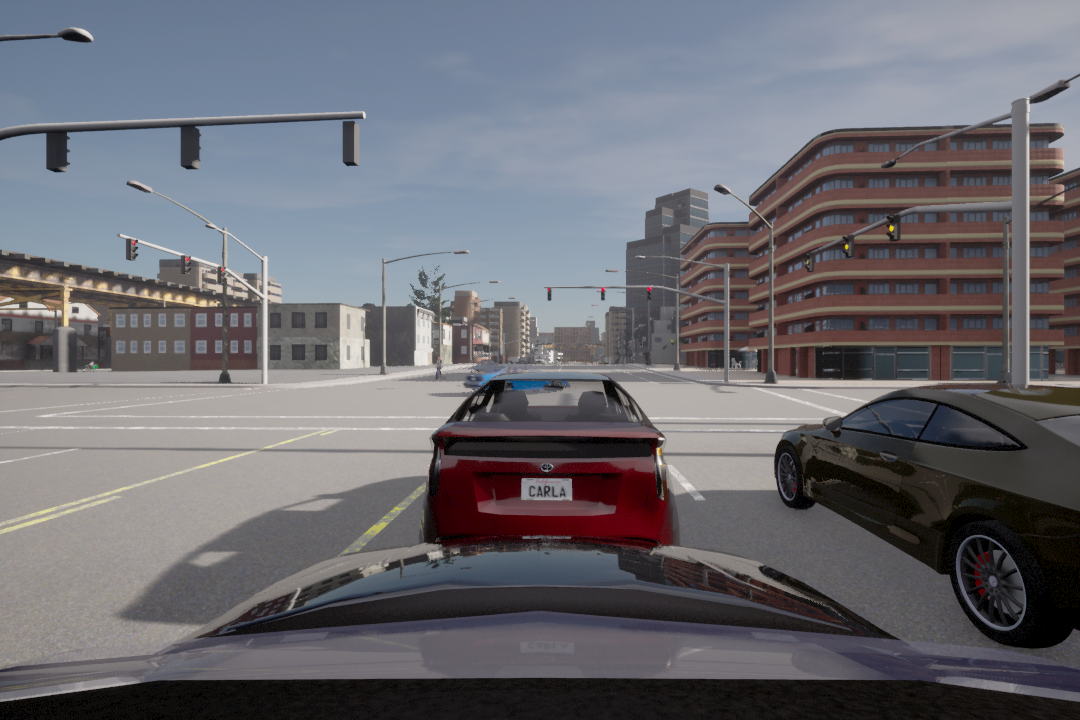TrafficLight: (884, 212, 905, 247), (842, 233, 859, 261), (125, 237, 139, 264), (801, 251, 813, 277), (181, 251, 192, 274), (598, 286, 609, 304), (645, 285, 655, 303), (218, 266, 227, 286), (546, 288, 554, 302)
